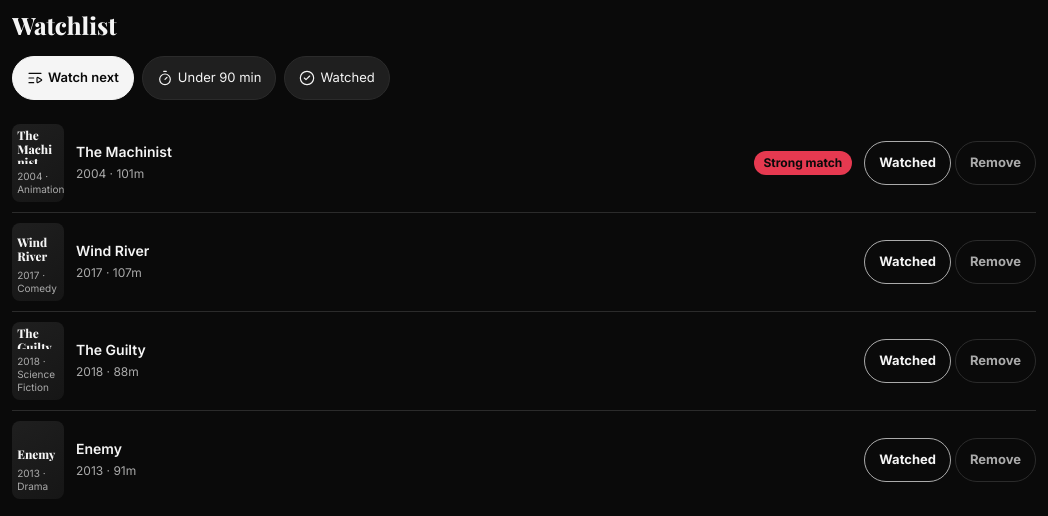
it: Watchlist › removes a film
Expected: the link "Wind River" is shown, 76,242 -> 149,259
Click the button "Remove" in the row of "Wind River": (996, 262) 955,240 -> 1036,284
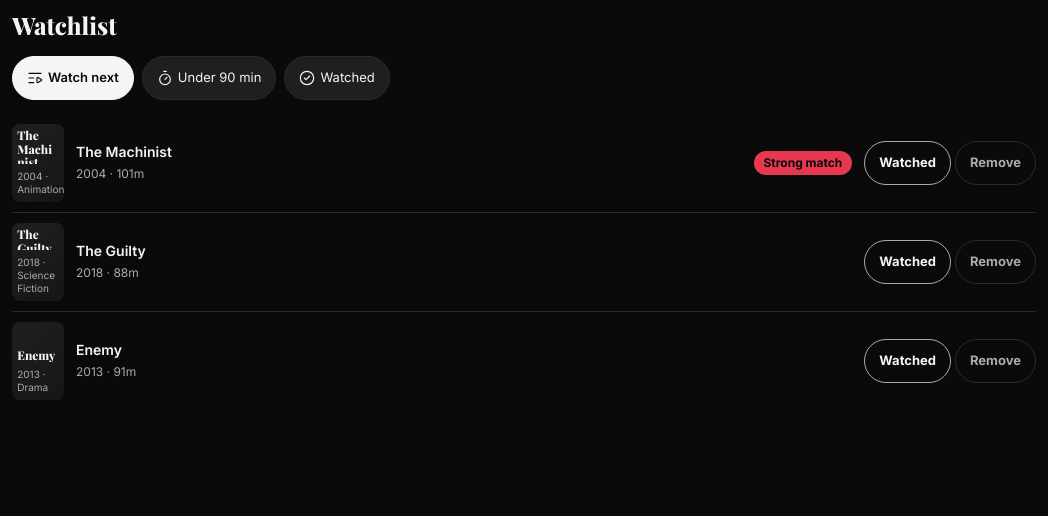
Expected: the link "Wind River" no longer shows "Wind River"
